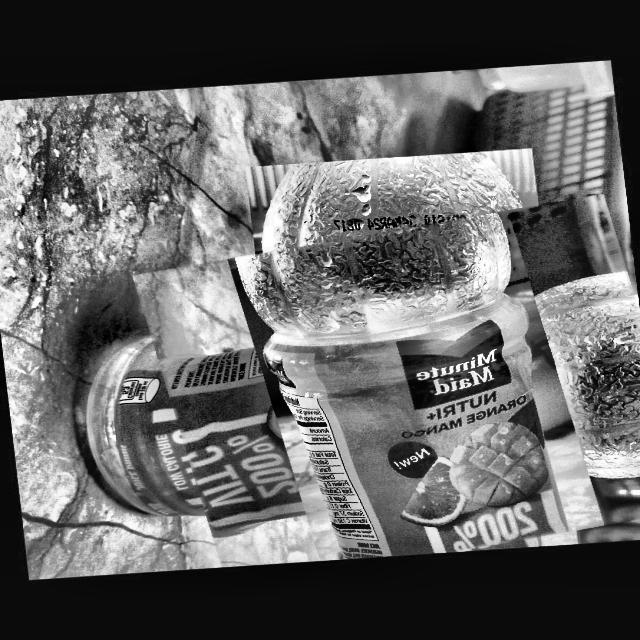Plastic-Bottle: (141, 204, 640, 570)
